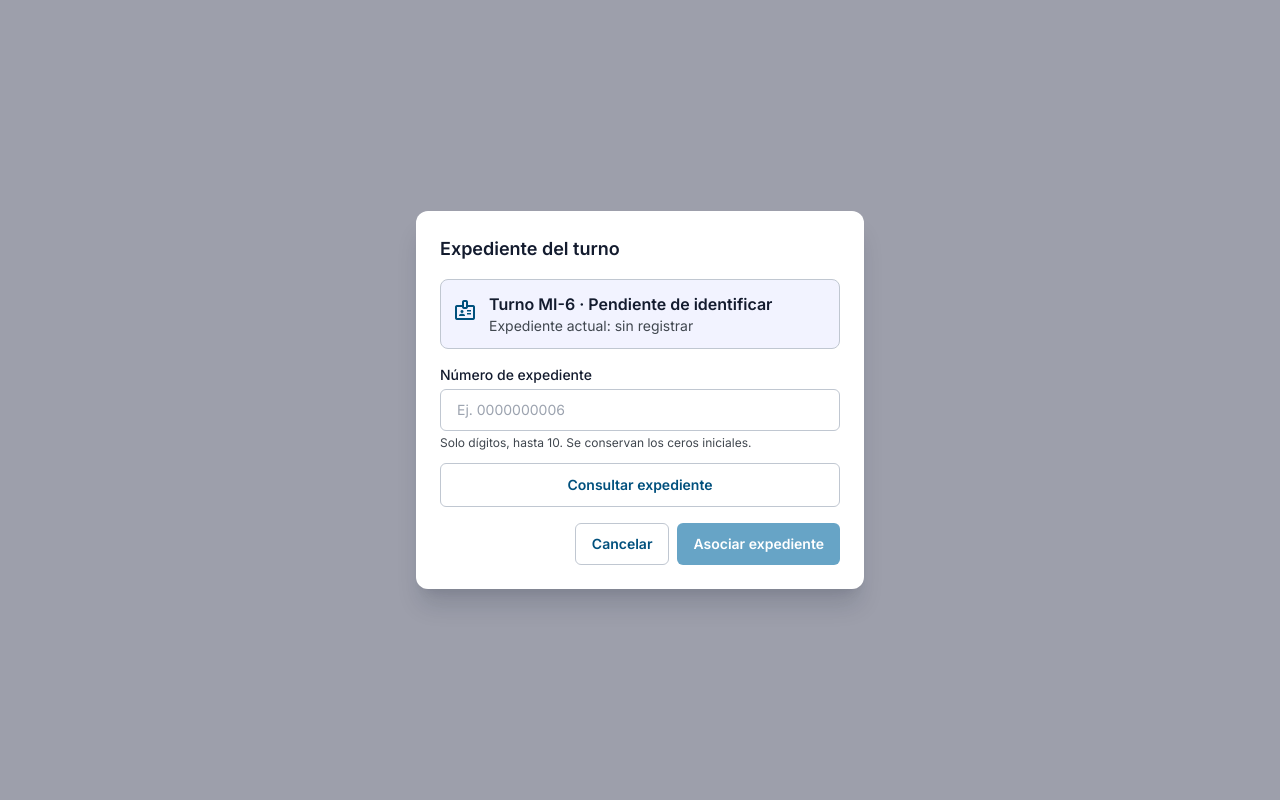
Test: ModalExpediente › rechaza entradas vacías y expedientes inexistentes
Click the button "Consultar expediente" at coordinates (640, 485), box [440,463,840,507]
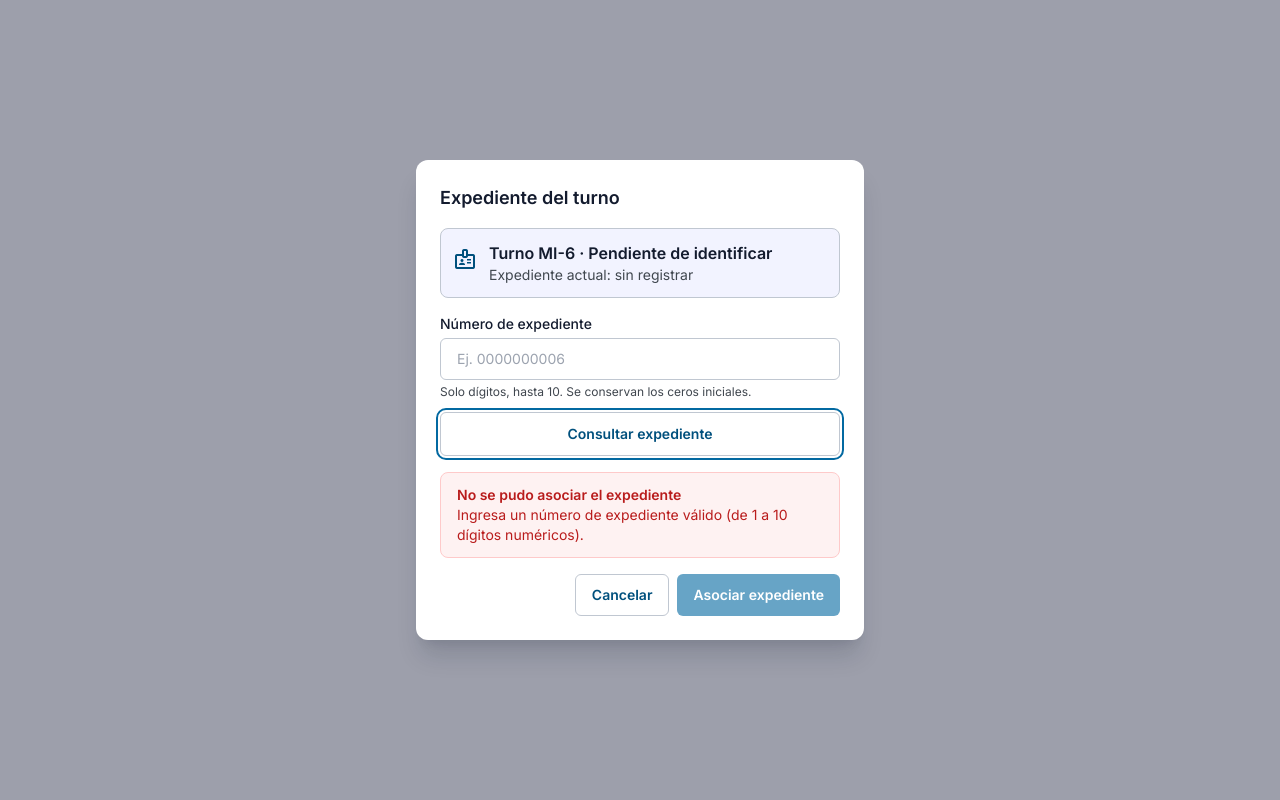
Now the text "Ingresa un número de expediente válido" is shown, box [457,506,788,543]
Type "9999999999" into the field labelled "Número de expediente" at coordinates (640, 359), box [440,338,840,380]
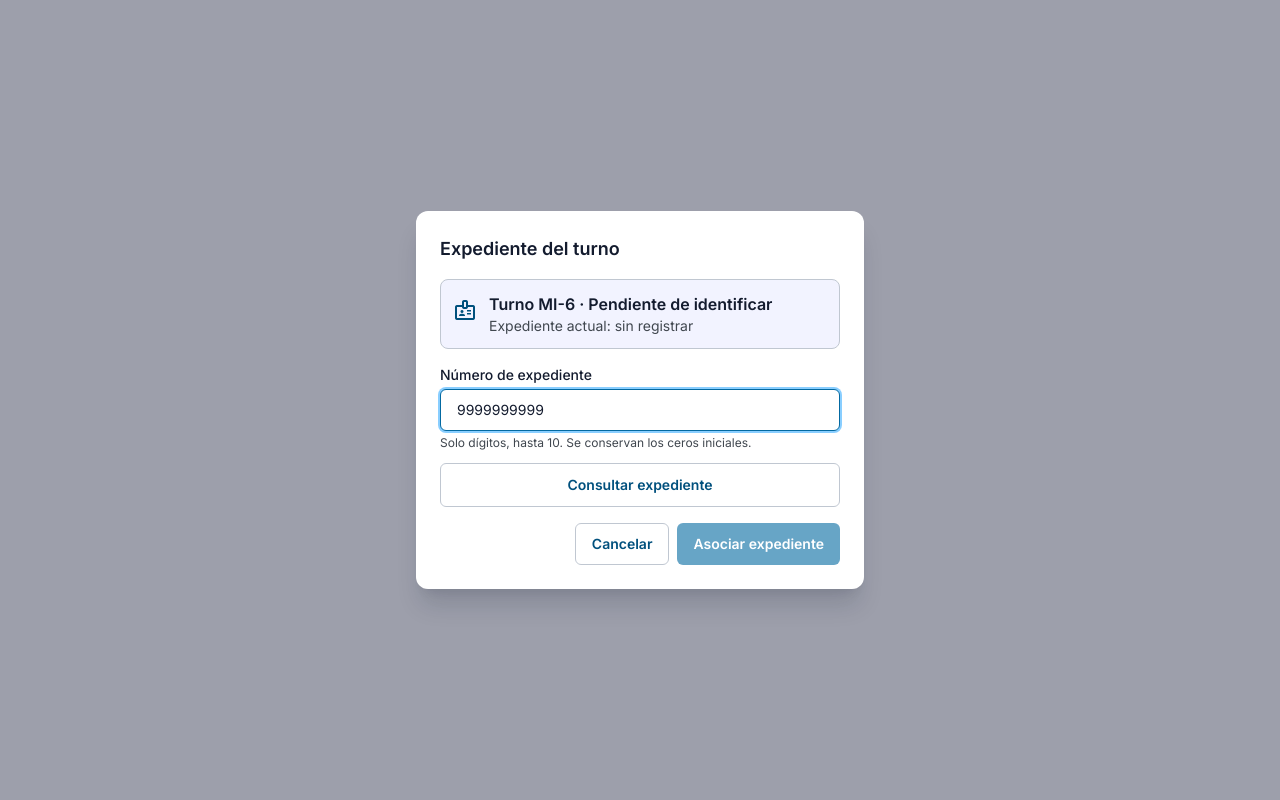
Click the button "Consultar expediente" at coordinates (640, 485), box [440,463,840,507]
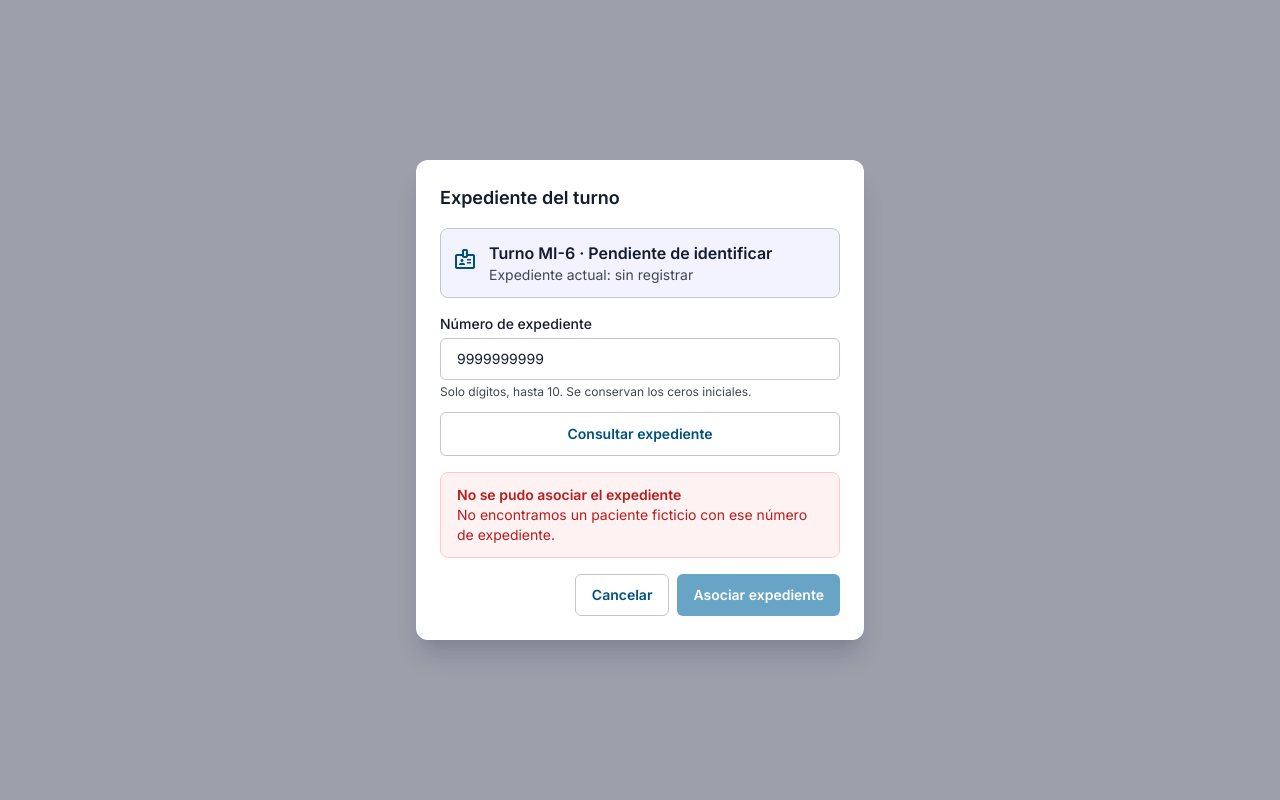
Now the text "No encontramos un paciente ficticio" is shown, box [457,506,807,543]
